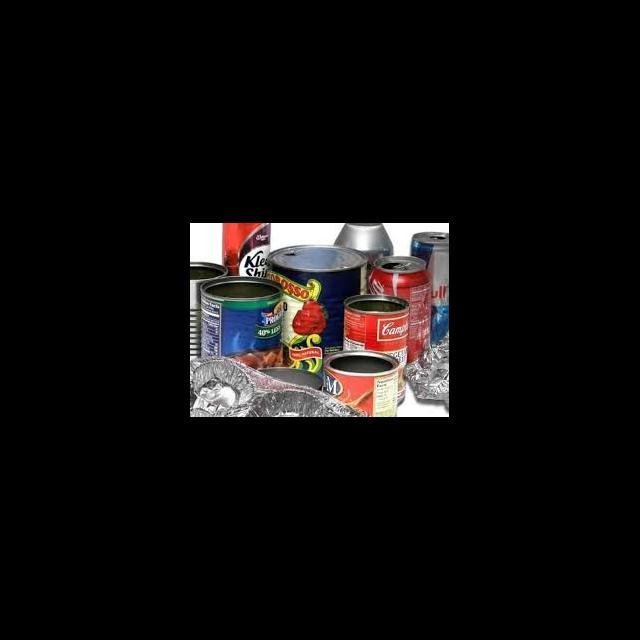metal: (262, 234, 371, 378), (198, 266, 312, 403), (337, 287, 418, 405), (366, 250, 442, 366), (316, 342, 408, 416), (404, 226, 448, 348), (190, 256, 230, 375), (216, 223, 278, 291), (331, 223, 402, 280)
